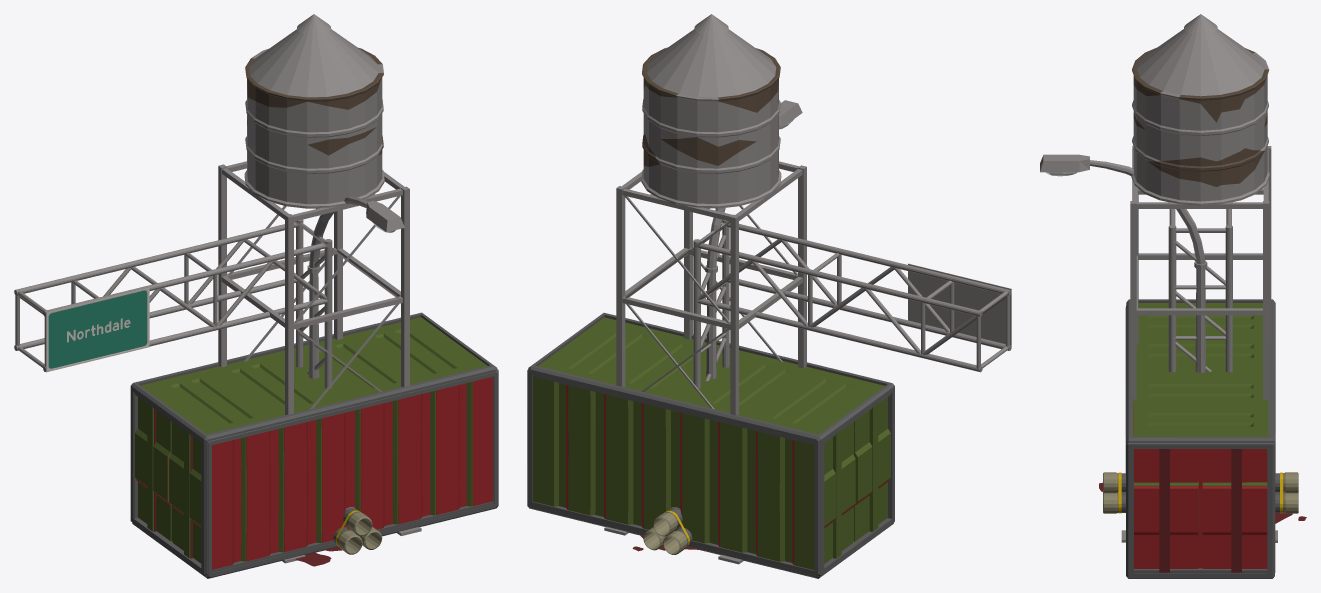
The model's file is oggetti.glb.
3 views of the same model, side by side, from view 1: azimuth 30°, elevation 25°; view 2: azimuth 150°, elevation 25°; view 3: azimuth 270°, elevation 25° (orthographic).
Visible parts, largest first — view 1: Container_Green, Container_Red, WaterTower, TownSign, StreetLights, Pipes; view 2: Container_Green, WaterTower, TownSign, Container_Red, StreetLights, Pipes; view 3: WaterTower, Container_Red, Container_Green, TownSign, StreetLights, Pipes.
Part boxes in pixels (x1,y1,x2,y2): Container_Green: (130, 312, 497, 575); Container_Red: (132, 369, 498, 578); WaterTower: (218, 14, 421, 563); TownSign: (14, 219, 332, 388); StreetLights: (307, 196, 404, 378); Pipes: (333, 507, 382, 554); Container_Green: (528, 312, 894, 576); WaterTower: (604, 14, 806, 564); TownSign: (693, 220, 1011, 388); Container_Red: (527, 369, 893, 578); StreetLights: (705, 100, 802, 378); Pipes: (643, 507, 692, 554); WaterTower: (1121, 14, 1277, 542); Container_Red: (1125, 305, 1274, 578); Container_Green: (1126, 299, 1275, 572); TownSign: (1168, 209, 1232, 372); StreetLights: (1040, 154, 1207, 372); Pipes: (1103, 472, 1298, 513).
Bounding box in the file's own units: 8.4 × 9.38 × 4.57.
27 materials, 26 textured.
